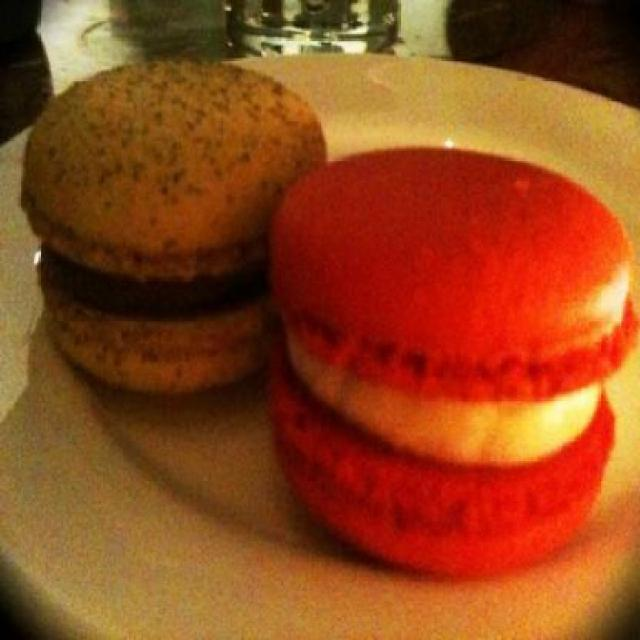Macaron: (16, 53, 639, 590)
